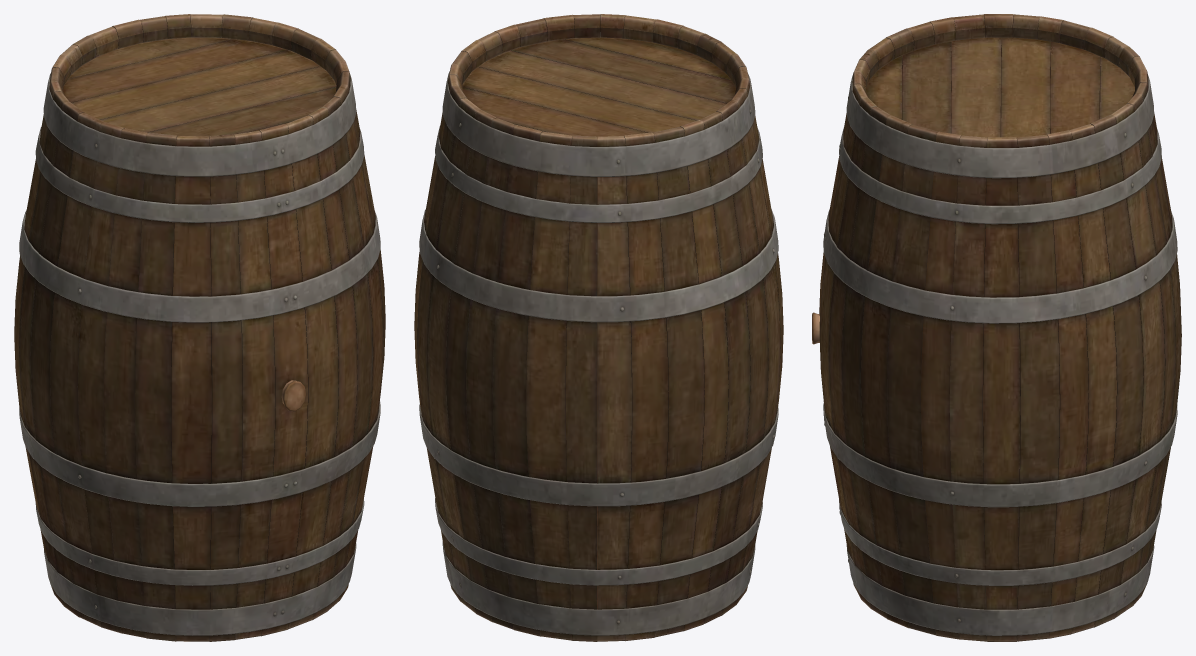
File: wine_barrel_01.glb
The picture shows the model from 3 angles, left to right: view 1: azimuth 30°, elevation 25°; view 2: azimuth 150°, elevation 25°; view 3: azimuth 270°, elevation 25°; orthographic projection.
Parts seen in each view (by area): view 1: wine_barrel_01, wine_barrel_01_Lid, wine_barrel_01_bung; view 2: wine_barrel_01, wine_barrel_01_Lid; view 3: wine_barrel_01, wine_barrel_01_Lid.
Part boxes in pixels (x1,y1,x2,y2): wine_barrel_01: (14, 14, 385, 641); wine_barrel_01_Lid: (63, 37, 336, 136); wine_barrel_01_bung: (281, 380, 305, 411); wine_barrel_01: (414, 14, 783, 641); wine_barrel_01_Lid: (462, 37, 735, 138); wine_barrel_01: (819, 14, 1181, 641); wine_barrel_01_Lid: (866, 37, 1134, 137).
Bounding box in the file's own units: 0.6 × 0.9 × 0.6.
Materials: 1 (1 with a texture image).
